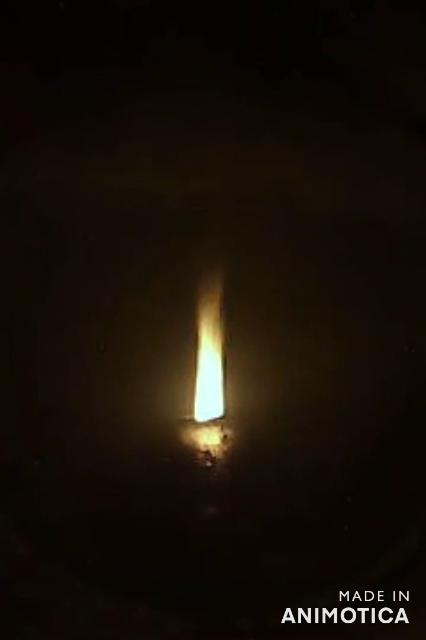burner flame: (192, 264, 226, 424)
